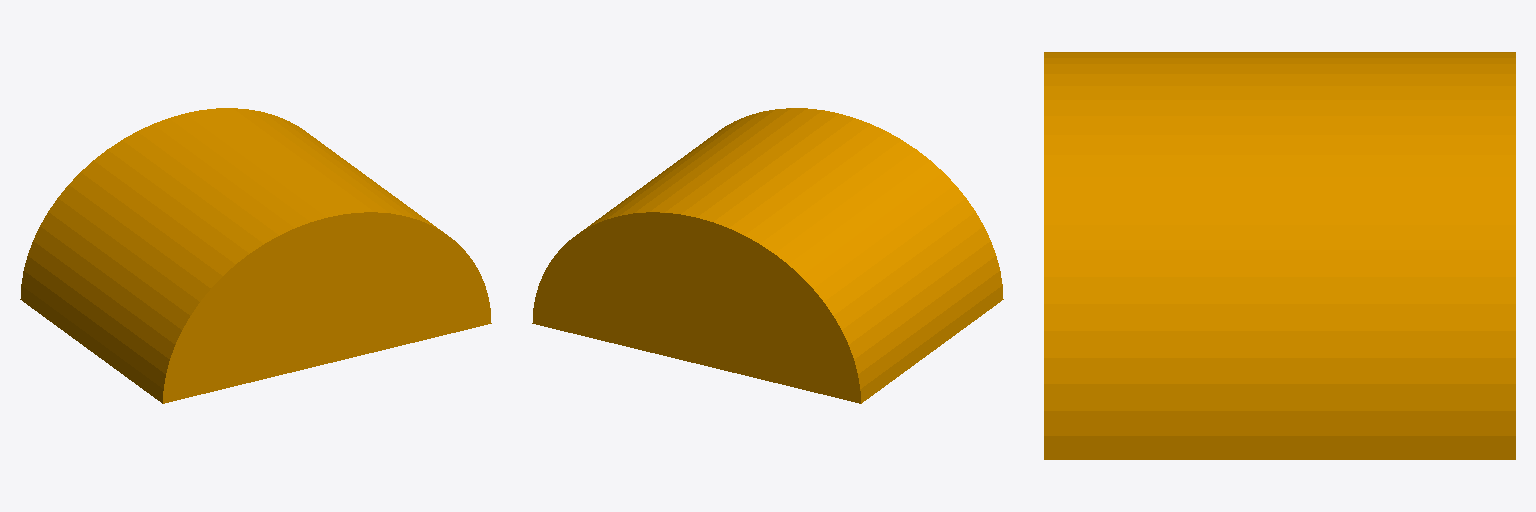
URDF robot description (roof):
<robot name="roof">
  <link name="_name">
    <contact>
      <lateral_friction value="1.0"/>
      <rolling_friction value="0.0"/>
      <contact_cfm value="0.0"/>
      <contact_erp value="1.0"/>
    </contact>
    <visual>
      <origin xyz="-7.580780023898703e-20 0.04300000000000001 -0.007209192515285245" rpy="0 0 0" />
      <geometry>
	<mesh filename="roof/tinker.obj" scale="0.001 0.001 0.001" />
      </geometry>
      <material name="texture">
	<color rgba="0.0859375, 0.9921875, 1.3359375 1.0" />
      </material>
    </visual>
    <collision>
      <geometry>
	<mesh filename="roof/tinker_vhacd.obj" scale="0.001 0.001 0.001" />
      </geometry>
    <origin xyz="-7.580780023898703e-20 0.04300000000000001 -0.007209192515285245" rpy="0 0 0" /></collision>
    <inertial>
      <mass value="1.0" />
      <inertia ixx="1.0" ixy="0.0" ixz="0.0" iyy="1.0" iyz="0.0" izz="1.0" />
    </inertial>
  </link>
</robot>

--- Render facts (derived) ---
Views: 3 orthographic renders of the robot side by side, from view 1: azimuth 30°, elevation 25°; view 2: azimuth 150°, elevation 25°; view 3: azimuth 270°, elevation 25°.
Model roof with 1 links and 0 joints (none), rooted at _name, posed all joints at 0.
Visible links, largest first — view 1: _name; view 2: _name; view 3: _name.
Link boxes in pixels (x1=…): _name: x1=20, y1=108, x2=491, y2=403; _name: x1=532, y1=108, x2=1003, y2=403; _name: x1=1044, y1=52, x2=1515, y2=459.
Bounding box of the posed robot: 0.04 × 0.03 × 0.017 m (x, y, z).
Meshes: 1 distinct files referenced, 1 mesh visuals loaded (1 OBJ).